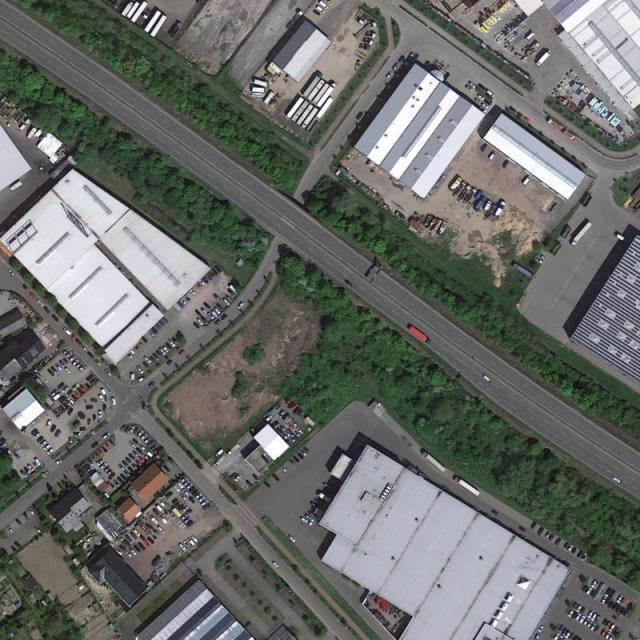vehicle: (454, 476, 482, 498), (422, 450, 447, 473), (409, 326, 432, 346), (536, 52, 551, 67), (226, 444, 241, 458), (214, 455, 227, 468), (149, 514, 159, 526), (155, 504, 166, 514), (62, 327, 73, 337), (522, 175, 532, 186), (52, 392, 62, 402), (116, 476, 126, 486), (186, 536, 196, 546), (122, 538, 132, 548), (167, 338, 177, 348), (216, 302, 226, 312), (344, 279, 354, 289), (319, 1, 330, 10), (525, 33, 536, 42), (612, 476, 622, 485), (482, 374, 492, 383), (100, 388, 109, 398), (113, 479, 122, 489), (146, 536, 155, 546), (132, 529, 142, 538), (183, 478, 192, 488), (127, 466, 137, 475), (162, 464, 171, 474), (46, 368, 55, 378), (486, 89, 496, 98), (468, 81, 478, 90), (488, 151, 497, 161), (139, 334, 148, 344), (214, 449, 224, 458), (271, 473, 281, 482), (295, 426, 305, 435), (212, 293, 222, 302), (225, 294, 234, 304), (22, 511, 30, 522), (26, 463, 35, 472), (80, 385, 89, 394), (124, 534, 133, 543), (152, 528, 161, 537), (178, 542, 187, 551), (128, 452, 137, 461), (146, 439, 155, 448), (51, 314, 60, 323), (74, 338, 83, 347), (65, 350, 74, 359), (71, 358, 80, 367), (74, 361, 83, 370), (355, 111, 364, 120), (136, 366, 145, 375), (271, 561, 280, 570), (288, 534, 297, 543), (158, 347, 167, 356), (157, 318, 166, 327), (189, 288, 198, 297), (182, 294, 191, 303), (161, 316, 170, 325), (210, 309, 219, 318), (222, 298, 231, 307), (616, 594, 624, 604), (600, 596, 608, 606), (590, 579, 598, 589), (45, 419, 53, 429), (160, 515, 168, 525), (153, 508, 161, 518), (134, 544, 142, 554), (316, 6, 326, 14), (43, 306, 51, 316), (22, 283, 30, 293), (480, 142, 488, 152), (502, 159, 510, 169), (297, 451, 305, 461), (270, 420, 280, 428), (214, 264, 222, 274), (179, 298, 189, 306), (50, 423, 57, 434), (607, 600, 615, 609), (561, 627, 569, 636), (548, 533, 556, 542), (490, 509, 499, 517), (590, 613, 598, 622), (19, 470, 28, 478), (22, 466, 31, 474), (14, 540, 22, 549), (97, 458, 106, 466), (10, 546, 19, 554), (86, 457, 94, 466), (82, 463, 90, 472), (80, 460, 88, 469), (77, 387, 85, 396), (72, 419, 80, 428), (54, 429, 62, 438), (145, 522, 154, 530), (183, 517, 192, 525), (185, 520, 194, 528), (180, 493, 188, 502), (177, 481, 185, 490), (188, 486, 197, 494), (120, 474, 129, 482), (121, 459, 130, 467), (129, 440, 137, 449), (138, 444, 147, 452), (118, 463, 126, 472), (134, 459, 143, 467), (131, 463, 140, 471), (131, 438, 140, 446), (145, 450, 154, 458), (150, 443, 158, 452), (153, 447, 162, 455), (130, 548, 138, 557), (78, 364, 87, 372), (8, 269, 16, 278), (86, 351, 95, 359), (94, 359, 102, 368), (50, 366, 58, 375), (54, 363, 62, 372), (509, 106, 518, 114), (478, 106, 487, 114), (484, 98, 493, 106), (398, 55, 406, 64), (198, 495, 206, 504), (201, 498, 209, 507), (225, 558, 234, 566), (243, 622, 252, 630), (299, 516, 308, 524), (142, 361, 150, 370), (125, 351, 133, 360), (136, 340, 144, 349), (291, 403, 299, 412), (279, 466, 288, 474), (263, 480, 271, 489), (234, 474, 242, 483), (202, 503, 211, 511), (265, 414, 274, 422), (282, 412, 290, 421), (285, 398, 293, 407), (154, 322, 162, 331), (210, 267, 218, 276), (207, 270, 216, 278), (194, 282, 203, 290), (193, 321, 201, 330), (196, 317, 204, 326), (214, 306, 222, 315), (227, 288, 236, 296), (595, 614, 602, 624), (538, 526, 545, 536), (605, 630, 612, 640), (28, 507, 35, 517), (181, 475, 188, 485), (611, 602, 619, 610), (612, 614, 620, 622), (530, 522, 538, 530), (518, 525, 526, 533), (14, 518, 22, 526), (34, 458, 42, 466), (13, 452, 21, 460), (34, 526, 42, 534), (40, 440, 48, 448), (36, 435, 44, 443), (34, 431, 42, 439), (6, 526, 14, 534), (62, 386, 70, 394), (101, 446, 109, 454), (106, 469, 114, 477), (103, 466, 111, 474), (99, 462, 107, 470), (94, 451, 102, 459), (90, 454, 98, 462), (86, 466, 94, 474), (30, 428, 38, 436), (91, 441, 99, 449), (102, 432, 110, 440), (74, 391, 82, 399), (71, 394, 79, 402), (67, 397, 75, 405), (62, 402, 70, 410), (53, 410, 61, 418), (72, 383, 80, 391), (86, 374, 94, 382), (90, 378, 98, 386), (98, 394, 106, 402), (107, 473, 115, 481), (178, 503, 186, 511), (166, 490, 174, 498), (157, 526, 165, 534), (139, 534, 147, 542), (181, 506, 189, 514), (185, 508, 193, 516), (180, 514, 188, 522), (183, 540, 191, 548), (191, 535, 199, 543), (182, 489, 190, 497), (186, 482, 194, 490), (130, 532, 138, 540), (132, 450, 140, 458), (125, 456, 133, 464), (138, 542, 146, 550), (142, 453, 150, 461), (138, 456, 146, 464), (124, 470, 132, 478), (137, 430, 145, 438), (143, 437, 151, 445), (125, 551, 133, 559), (50, 390, 58, 398), (29, 291, 37, 299), (104, 370, 112, 378), (69, 354, 77, 362), (482, 102, 490, 110), (478, 94, 486, 102), (478, 83, 486, 91), (191, 488, 199, 496), (194, 492, 202, 500), (166, 358, 174, 366), (162, 346, 170, 354), (292, 455, 300, 463), (289, 458, 297, 466), (288, 401, 296, 409), (252, 474, 260, 482), (246, 480, 254, 488), (230, 472, 238, 480), (302, 446, 310, 454), (281, 432, 289, 440), (284, 430, 292, 438), (286, 422, 294, 430), (294, 430, 302, 438), (148, 330, 156, 338), (202, 276, 210, 284), (205, 274, 213, 282), (198, 278, 206, 286), (203, 302, 211, 310), (200, 315, 208, 323), (207, 312, 215, 320), (214, 318, 222, 326), (237, 302, 245, 310), (609, 589, 616, 598), (606, 587, 613, 596), (619, 606, 626, 615), (602, 617, 609, 626), (581, 553, 588, 562), (563, 541, 570, 550), (579, 615, 586, 624), (590, 623, 597, 632), (587, 610, 594, 619), (109, 439, 116, 448), (57, 406, 64, 415), (67, 407, 74, 416), (174, 484, 181, 493), (135, 447, 144, 454), (62, 348, 71, 355), (313, 10, 322, 17), (465, 85, 474, 92), (392, 62, 399, 71), (386, 71, 393, 80), (535, 258, 544, 265), (143, 357, 152, 364), (153, 353, 160, 362), (171, 335, 178, 344), (129, 347, 136, 356), (195, 308, 202, 317), (177, 300, 184, 309), (220, 313, 229, 320), (610, 623, 616, 633), (623, 609, 630, 617), (558, 626, 565, 634), (565, 631, 572, 639), (615, 605, 622, 613), (606, 621, 613, 629), (577, 550, 584, 558), (567, 544, 574, 552), (555, 538, 562, 546), (586, 587, 593, 595), (571, 611, 578, 619), (575, 613, 582, 621), (583, 618, 590, 626), (586, 621, 593, 629), (46, 448, 54, 455), (44, 444, 51, 452), (98, 449, 105, 457), (66, 390, 74, 397), (110, 398, 117, 406), (144, 541, 151, 549), (129, 426, 136, 434), (140, 434, 148, 441), (115, 549, 123, 556), (58, 382, 65, 390), (59, 360, 66, 368), (62, 358, 70, 365), (474, 98, 482, 105), (516, 111, 524, 118), (294, 406, 301, 414), (305, 514, 313, 521), (156, 350, 163, 358), (165, 342, 172, 350), (151, 326, 158, 334), (301, 449, 308, 457), (276, 426, 283, 434), (290, 420, 298, 427), (291, 434, 298, 442), (290, 436, 297, 444), (199, 307, 207, 314), (605, 597, 611, 606), (576, 605, 582, 614), (594, 625, 600, 634), (601, 628, 607, 637), (124, 425, 130, 434), (134, 426, 140, 435), (71, 333, 77, 342), (65, 366, 71, 375), (149, 381, 155, 390), (553, 633, 560, 640), (66, 400, 73, 407), (85, 383, 92, 390), (119, 544, 126, 551), (149, 356, 156, 363), (279, 425, 286, 432), (287, 428, 294, 435), (571, 546, 577, 554), (545, 531, 551, 539), (580, 606, 586, 614), (568, 610, 574, 618), (55, 459, 63, 465), (60, 405, 66, 413), (178, 350, 186, 356), (298, 409, 304, 417), (572, 634, 579, 640), (569, 633, 575, 640), (106, 443, 112, 450), (171, 498, 178, 504), (524, 117, 531, 123), (98, 410, 103, 418), (86, 405, 94, 410), (538, 254, 546, 259), (534, 634, 540, 640), (609, 634, 615, 640), (74, 432, 82, 436), (93, 414, 97, 422), (102, 404, 106, 412), (142, 402, 146, 410), (558, 635, 564, 640), (87, 419, 91, 426), (91, 398, 98, 402), (80, 427, 86, 431)
